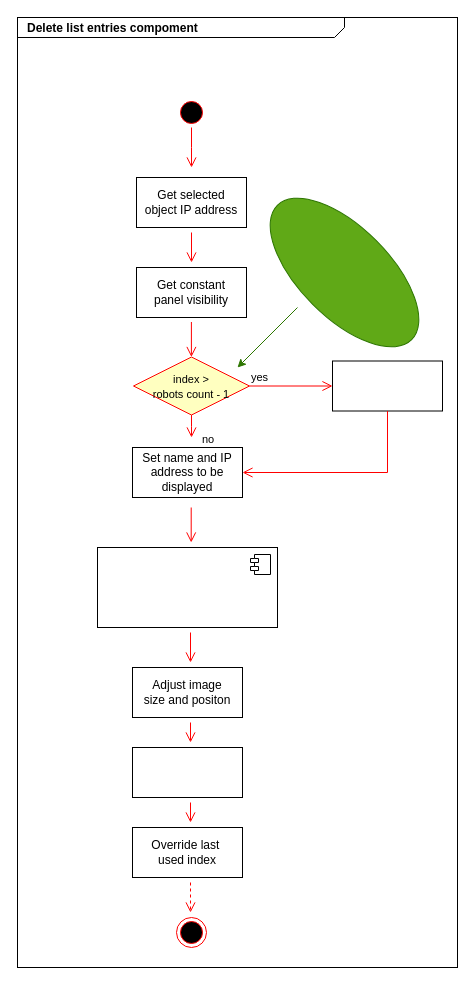
Image size: 475x985. Some labels were removed from this diagram. The centre of each missing label's shape, as x and y in pixels:
Assing robots count - 1 to index: point 387,385
Get sticker Observable robots: point 187,587
Save current data to logic service: point 187,772
Selcted obeject index is bigger than saved on server robots count minus one: point 344,272
